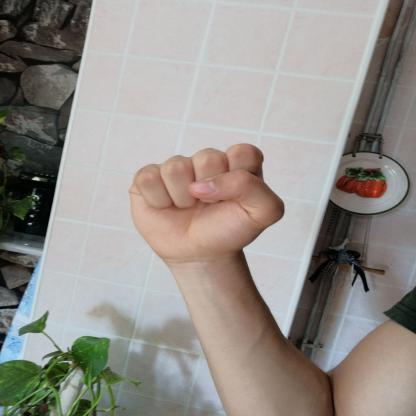SAD: (112, 131, 303, 274)
